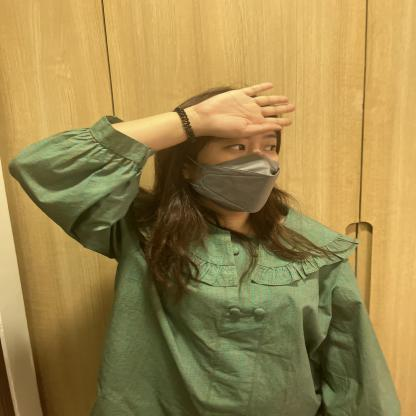Sick: (91, 71, 344, 161)
